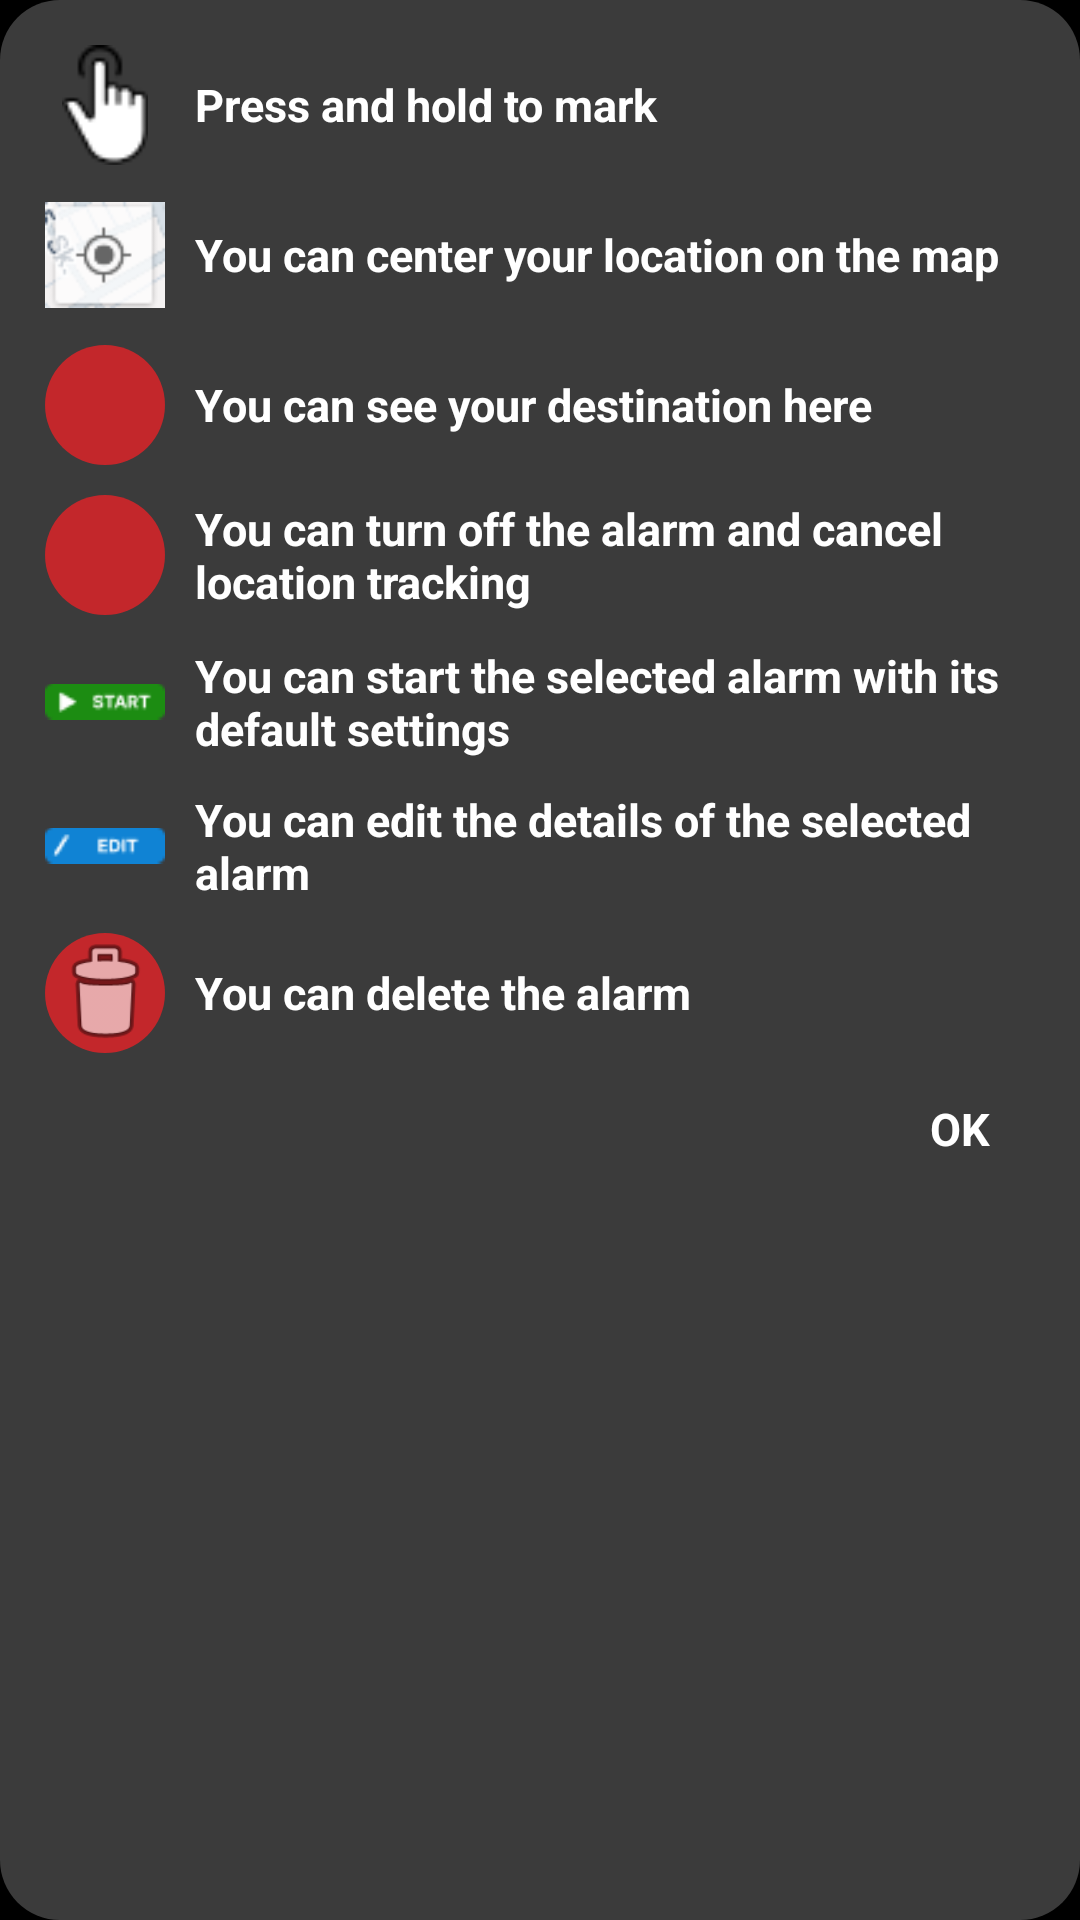

Screen size 1080 × 1920. Icon name, then its box in pixels as (x1,y1,x2,y2):
center user loc: (45,202,165,308)
touch: (62,45,148,165)
